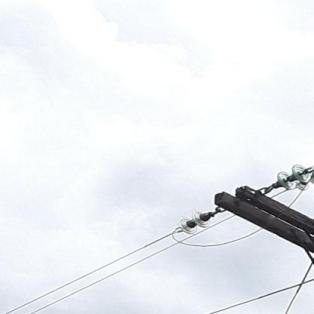Poste: (306, 132, 314, 314)
